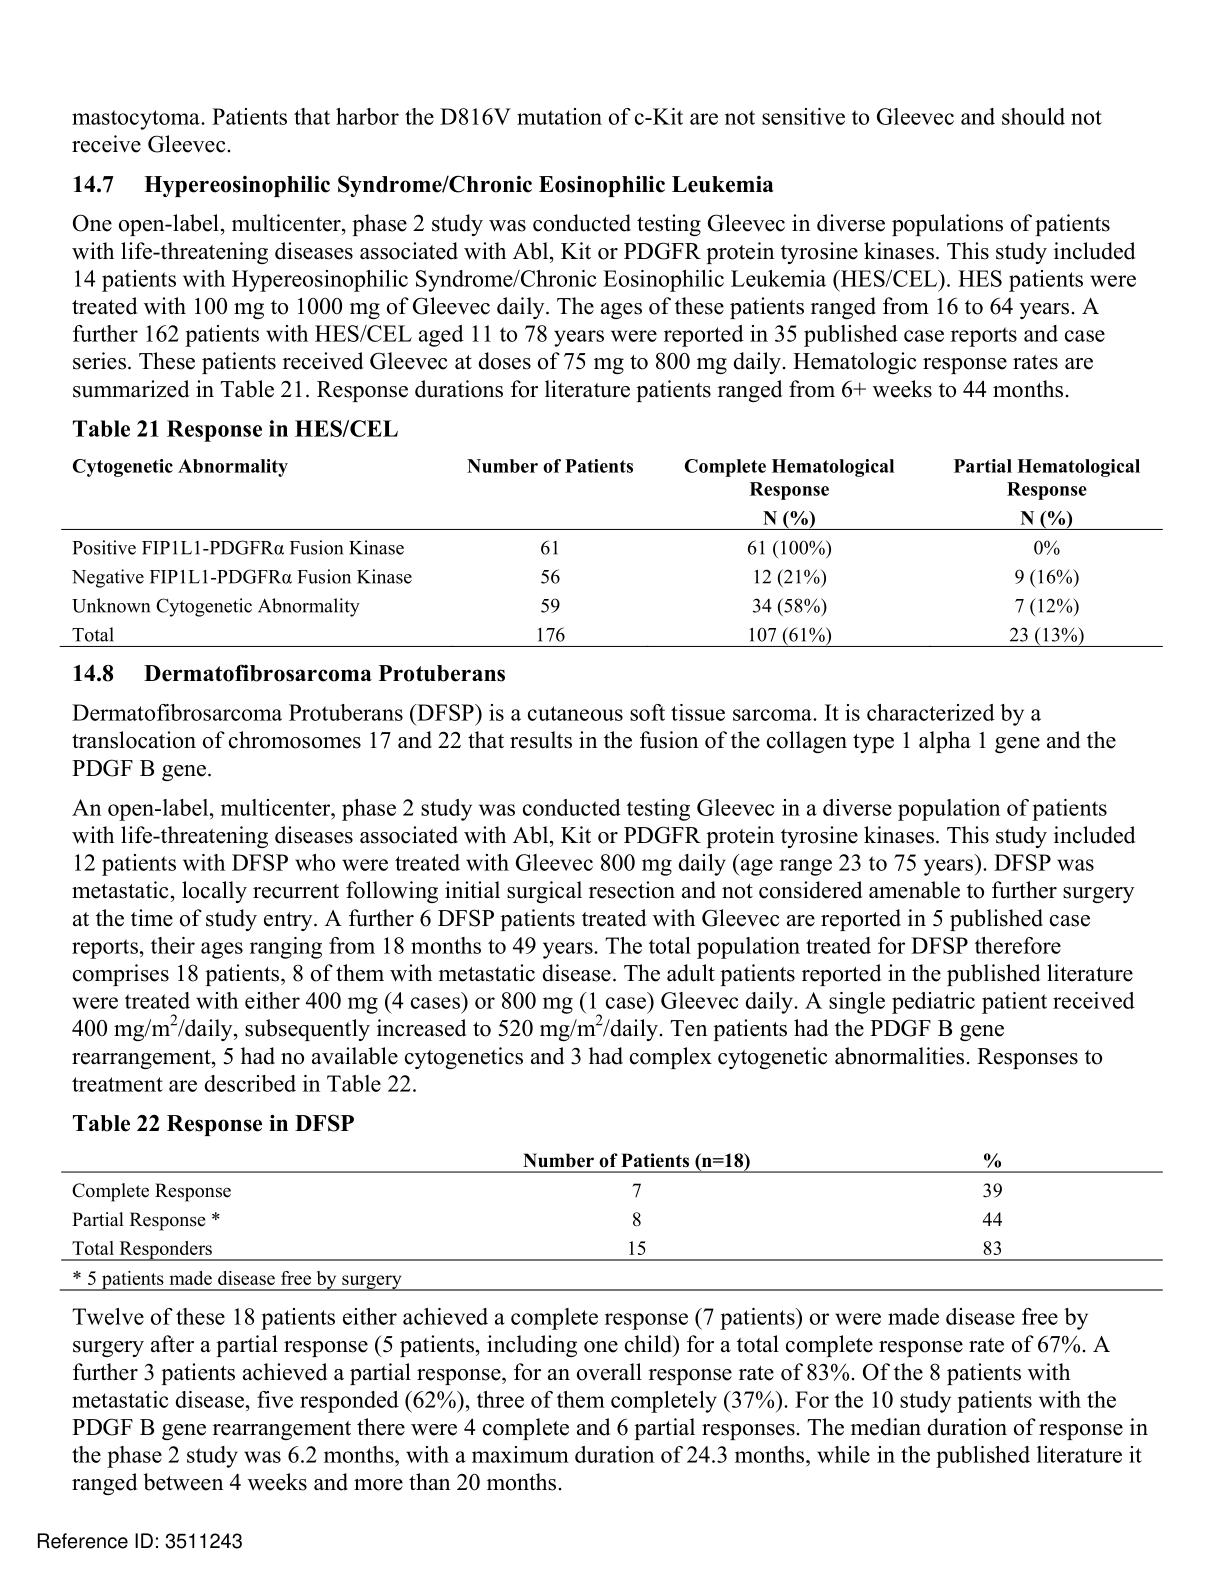partial_lined: (57, 453, 1165, 649), (60, 1147, 1165, 1263)
